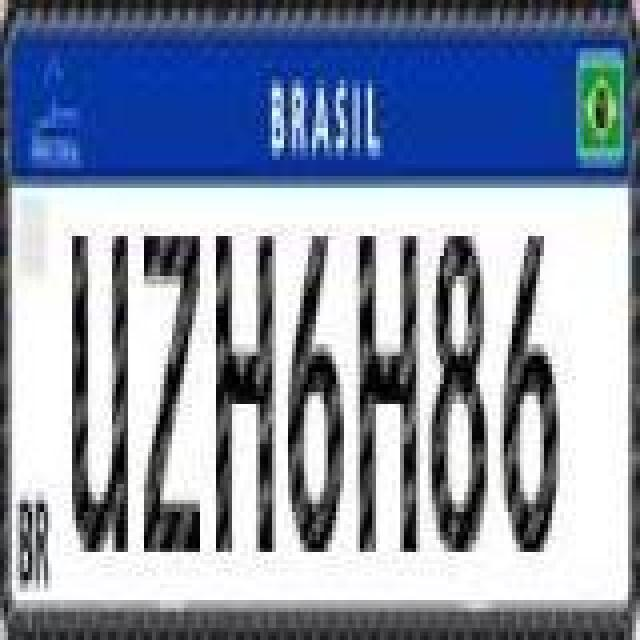6: (284, 230, 348, 554), (496, 230, 560, 554)
8: (424, 224, 488, 560)
H: (214, 230, 282, 554), (356, 230, 420, 554)
U: (68, 224, 132, 560)
Z: (140, 230, 204, 554)
